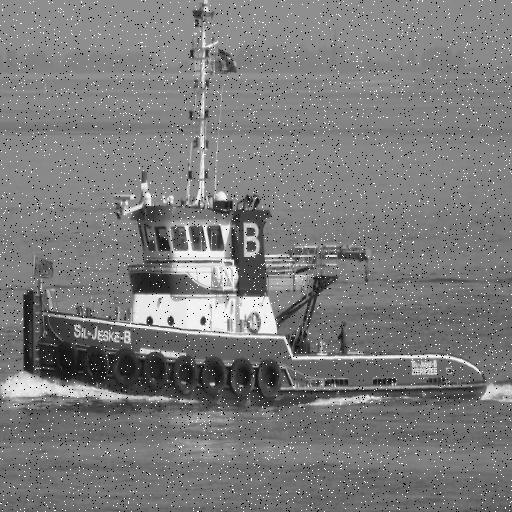tugboat: (18, 1, 493, 419)
